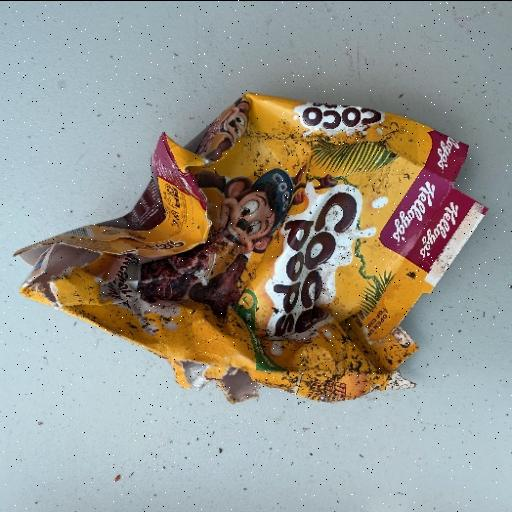Cardboard: (12, 90, 490, 404)
